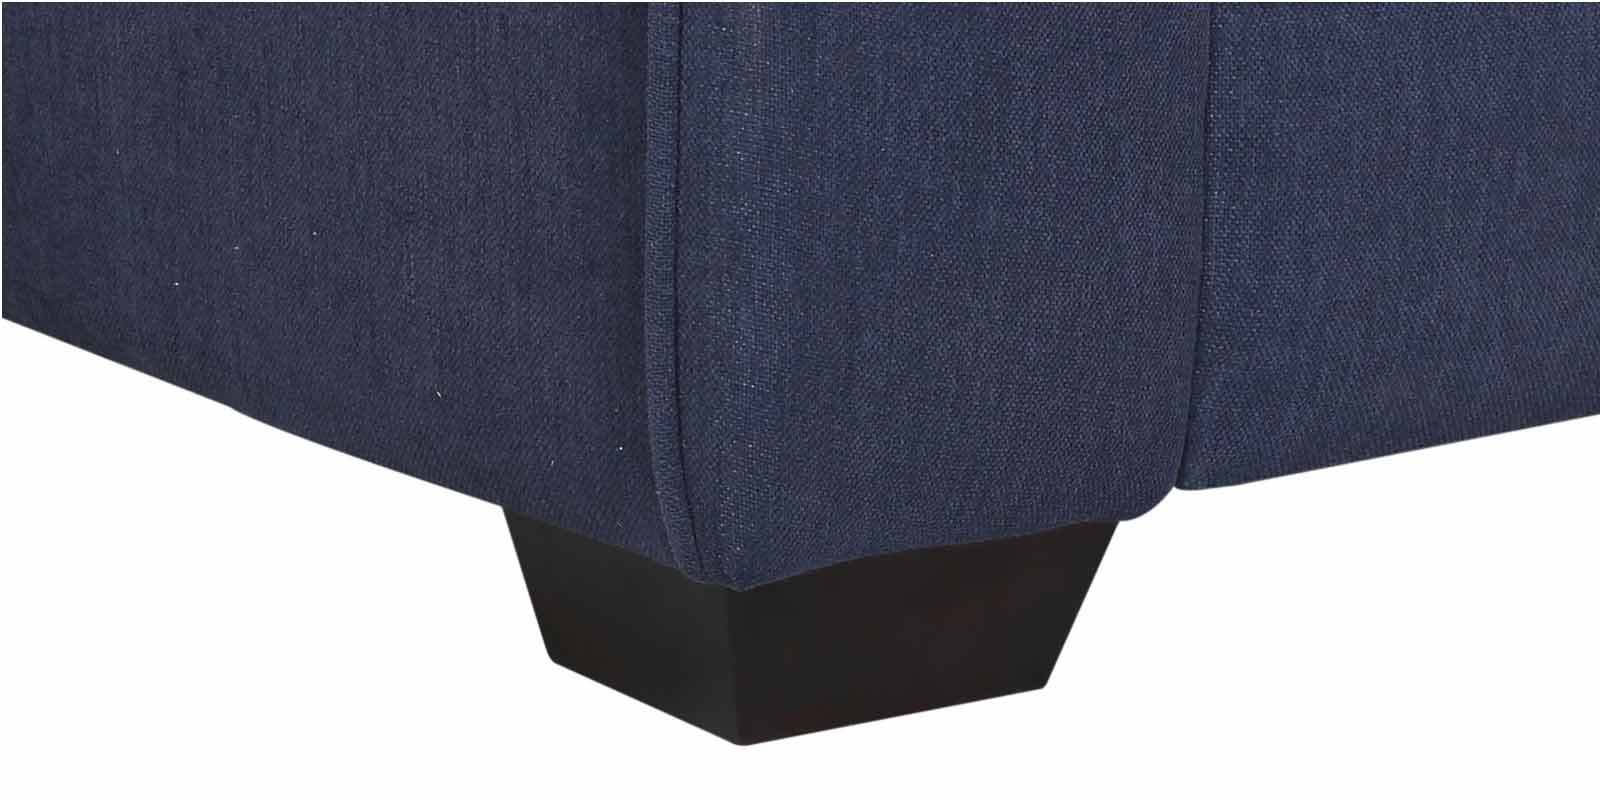Madeira Three Seater Sofa in Navy Blue Colour by CasaCraft: (2, 5, 1600, 746)
